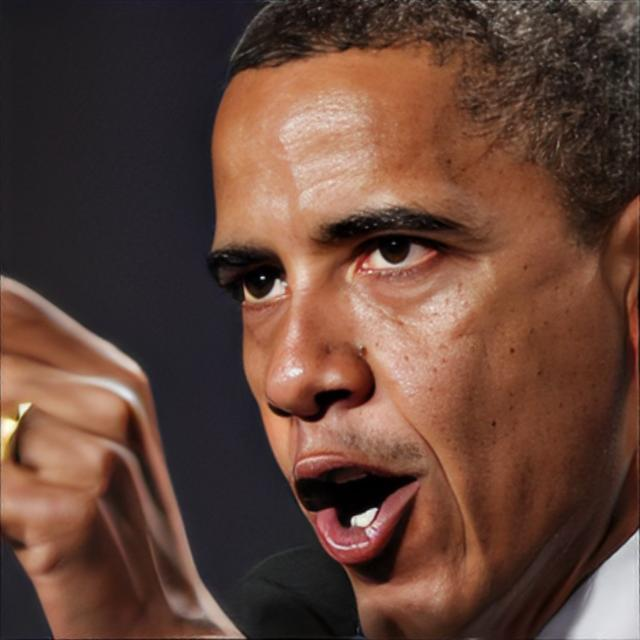anger: (200, 29, 621, 620)
